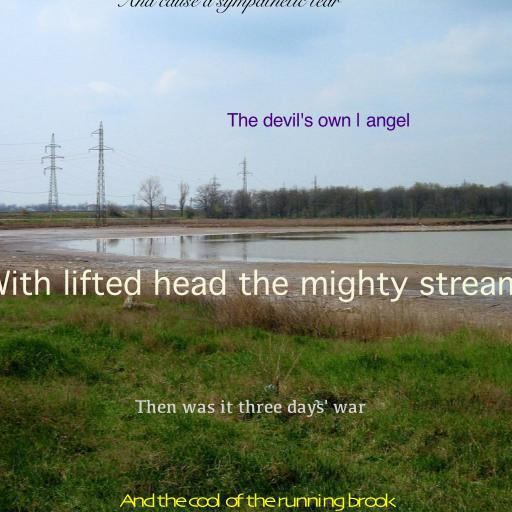Geneva: (0, 269, 512, 303)
Impact: (226, 112, 410, 131)
Kefa: (134, 399, 366, 417)
Skia: (120, 493, 394, 511)
Snell Roundhand: (115, 0, 339, 14)
